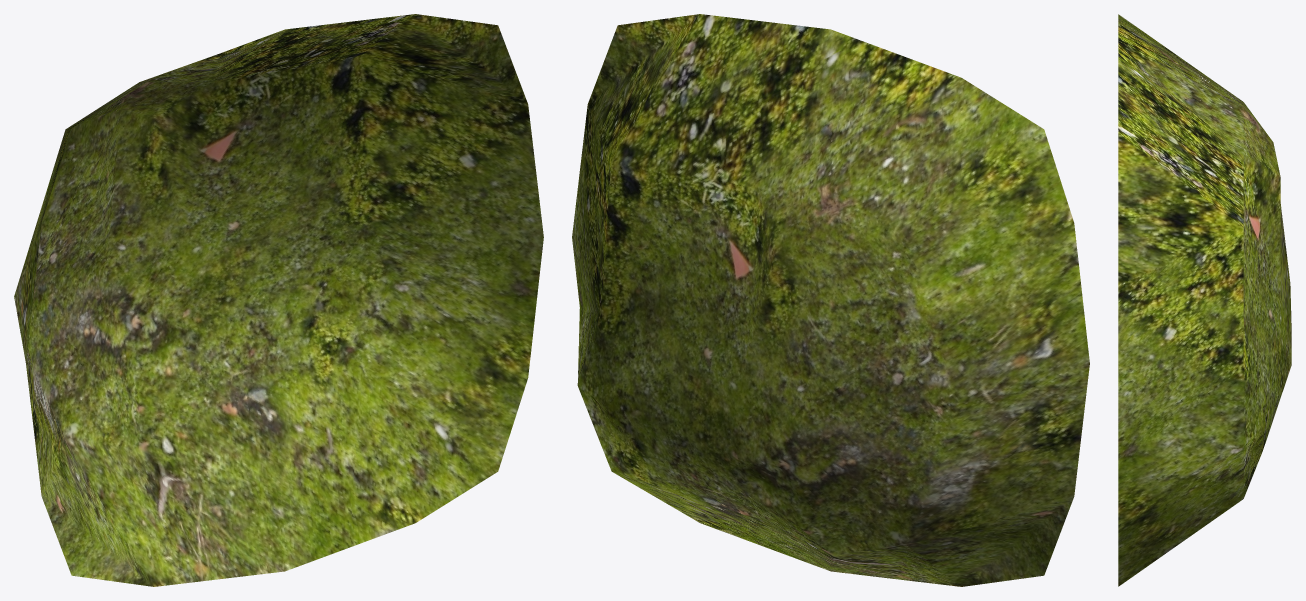
File: forest ground stones mossy 3.fbx
3 views of the same model, side by side, from view 1: azimuth 30°, elevation 25°; view 2: azimuth 150°, elevation 25°; view 3: azimuth 270°, elevation 25° (orthographic). The views are drawn at different scales.
Parts seen in each view (by area): view 1: Plane_002; view 2: Plane_002; view 3: Plane_002.
Boxes of the visible parts, x1,y1,x2,y2 form: Plane_002: [14, 14, 543, 586]; Plane_002: [572, 14, 1089, 586]; Plane_002: [1118, 14, 1291, 586].
Bounding box in the file's own units: 0.6487 × 0.6487 × 0.215.
